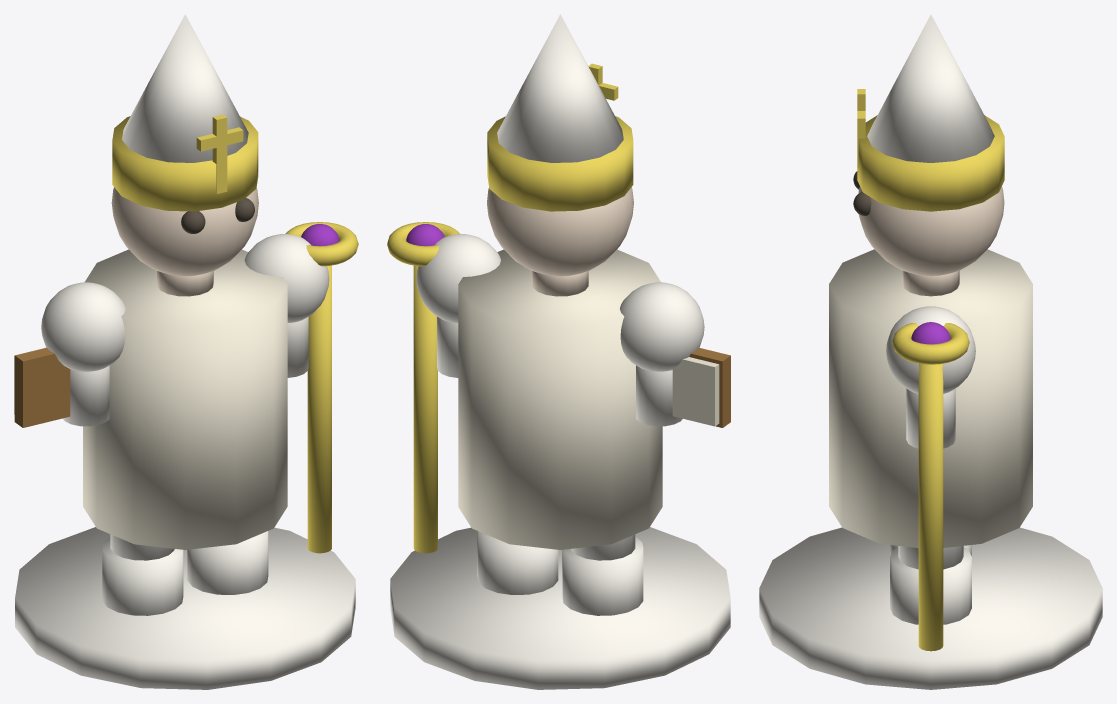
Rendered from Tuong.glb.
3 views of the same model, side by side, from view 1: azimuth 30°, elevation 25°; view 2: azimuth 150°, elevation 25°; view 3: azimuth 270°, elevation 25° (orthographic).
Visible parts, largest first — view 1: Bishop; view 2: Bishop; view 3: Bishop.
Part boxes in pixels (<box>): Bishop: <box>14,14,358,689</box>; Bishop: <box>387,14,730,689</box>; Bishop: <box>759,14,1102,689</box>.
Size of the model in its own units: 0.945 by 1.63 by 0.84.
